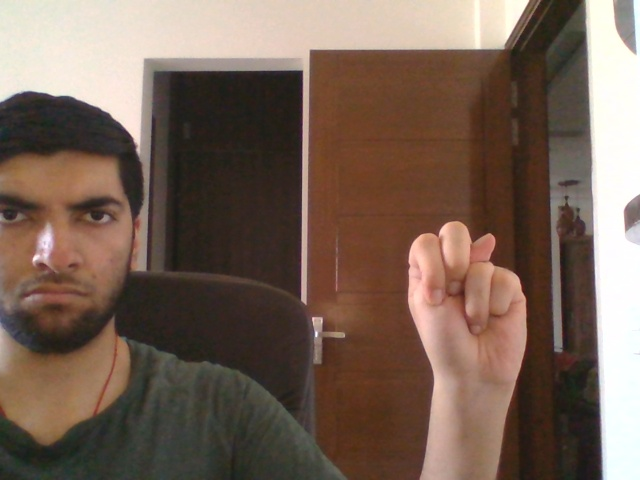LetterN: (406, 220, 528, 394)
